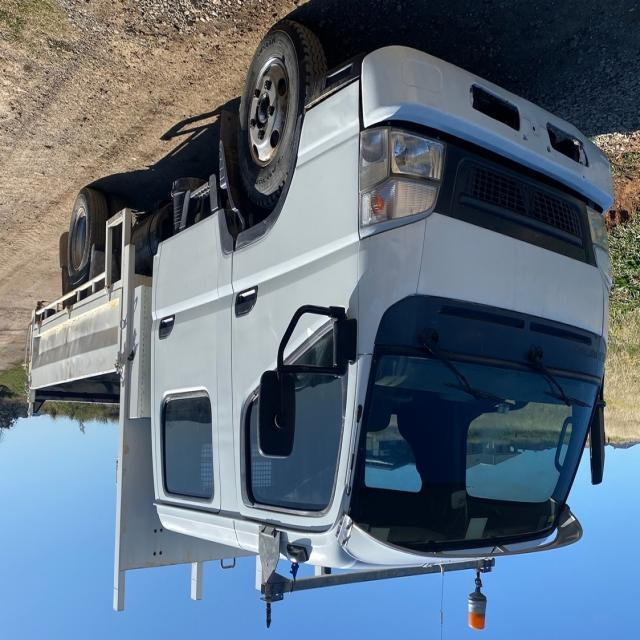truck: (19, 29, 614, 629)
